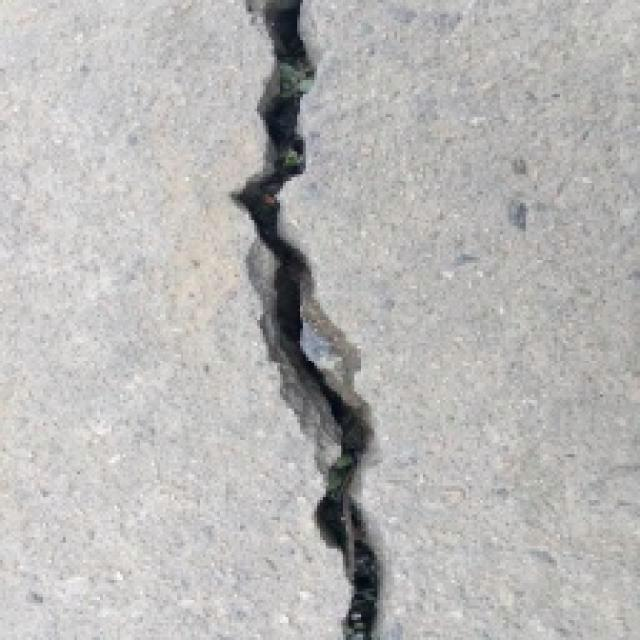crack: (222, 2, 406, 640)
